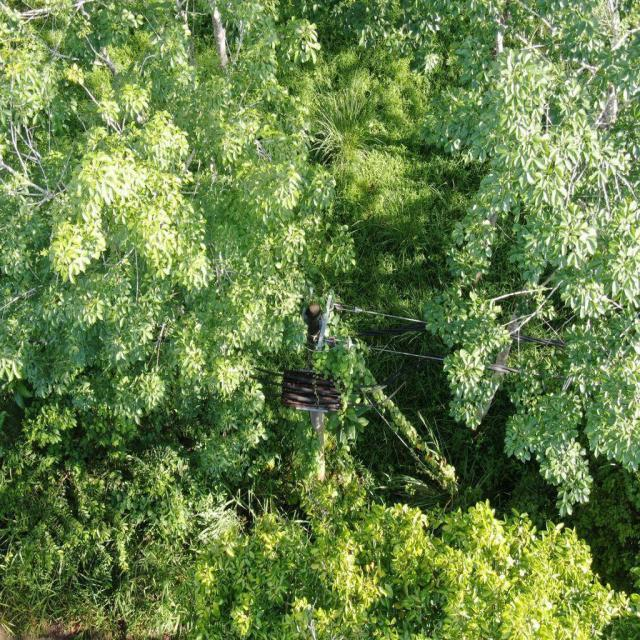critical vegetation: (298, 294, 474, 503)
